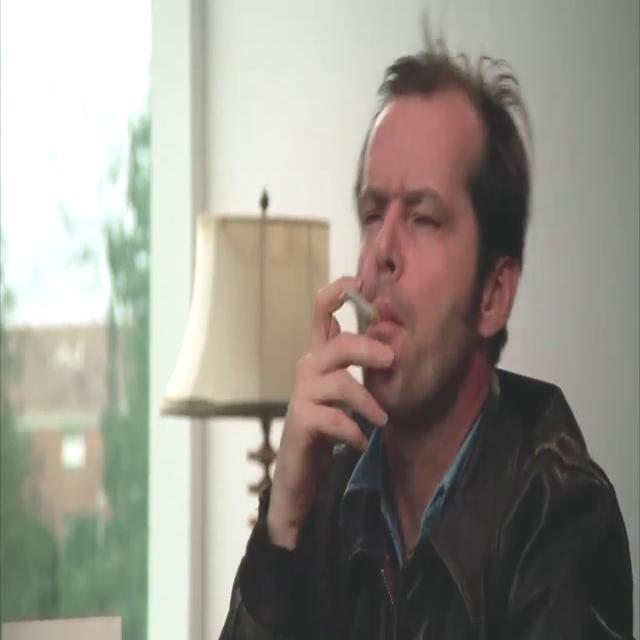Smooking: (342, 280, 382, 327)
